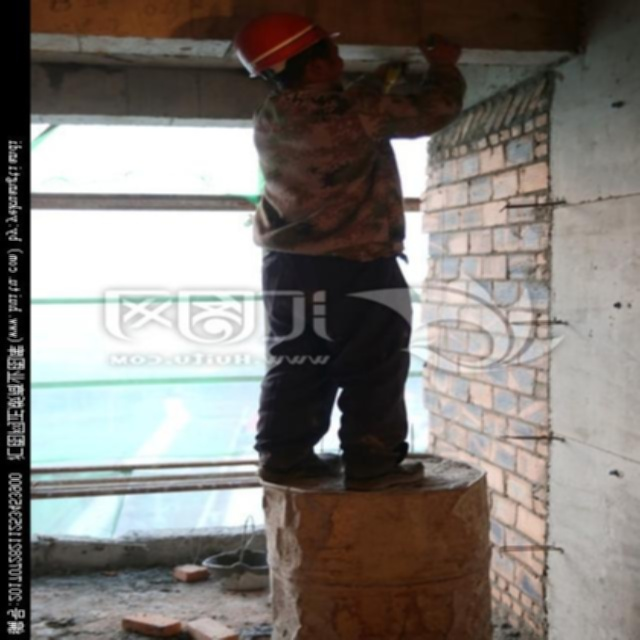Con_Casco: (236, 9, 335, 91)
